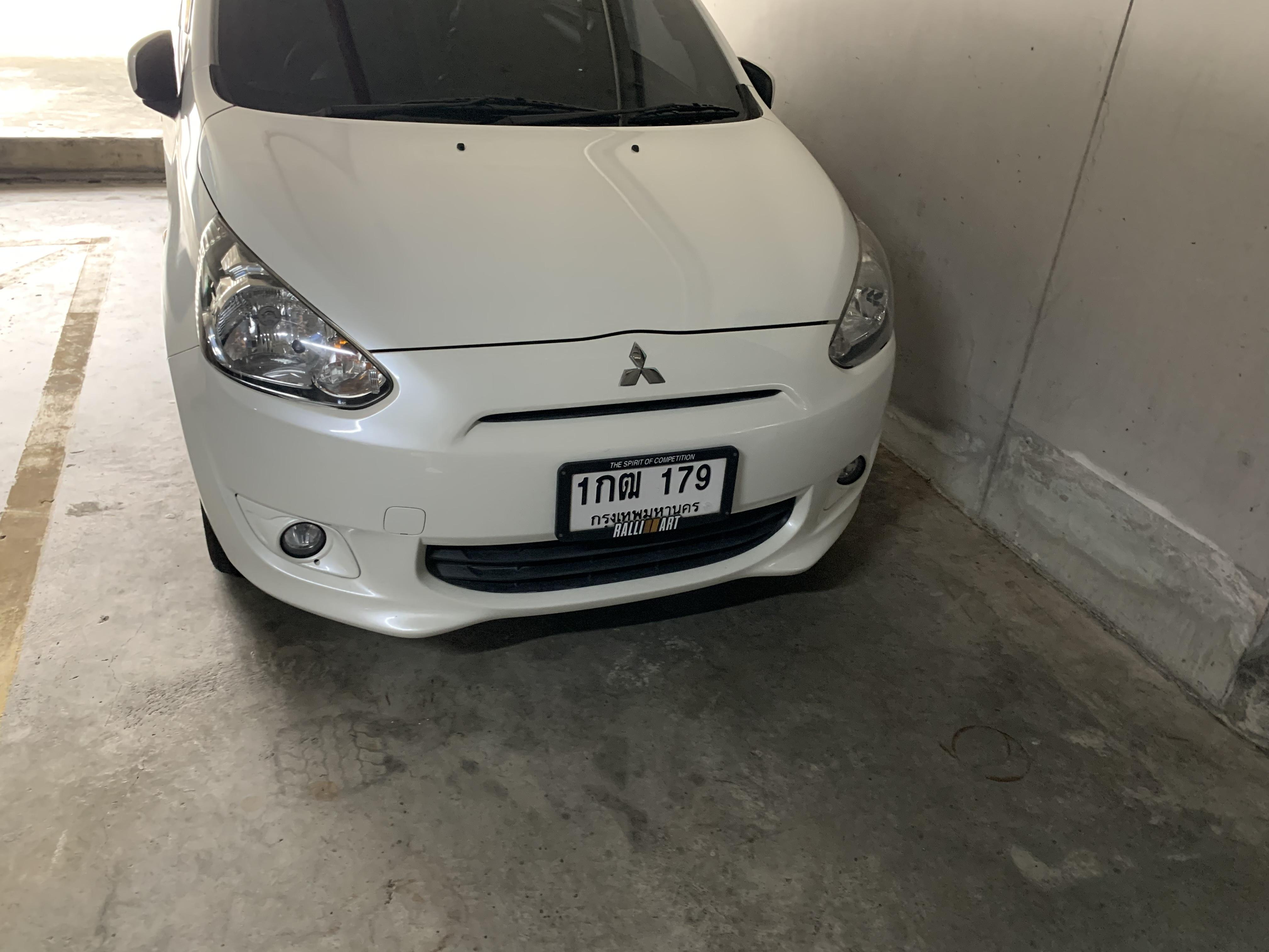license-plate: (552, 441, 748, 555)
